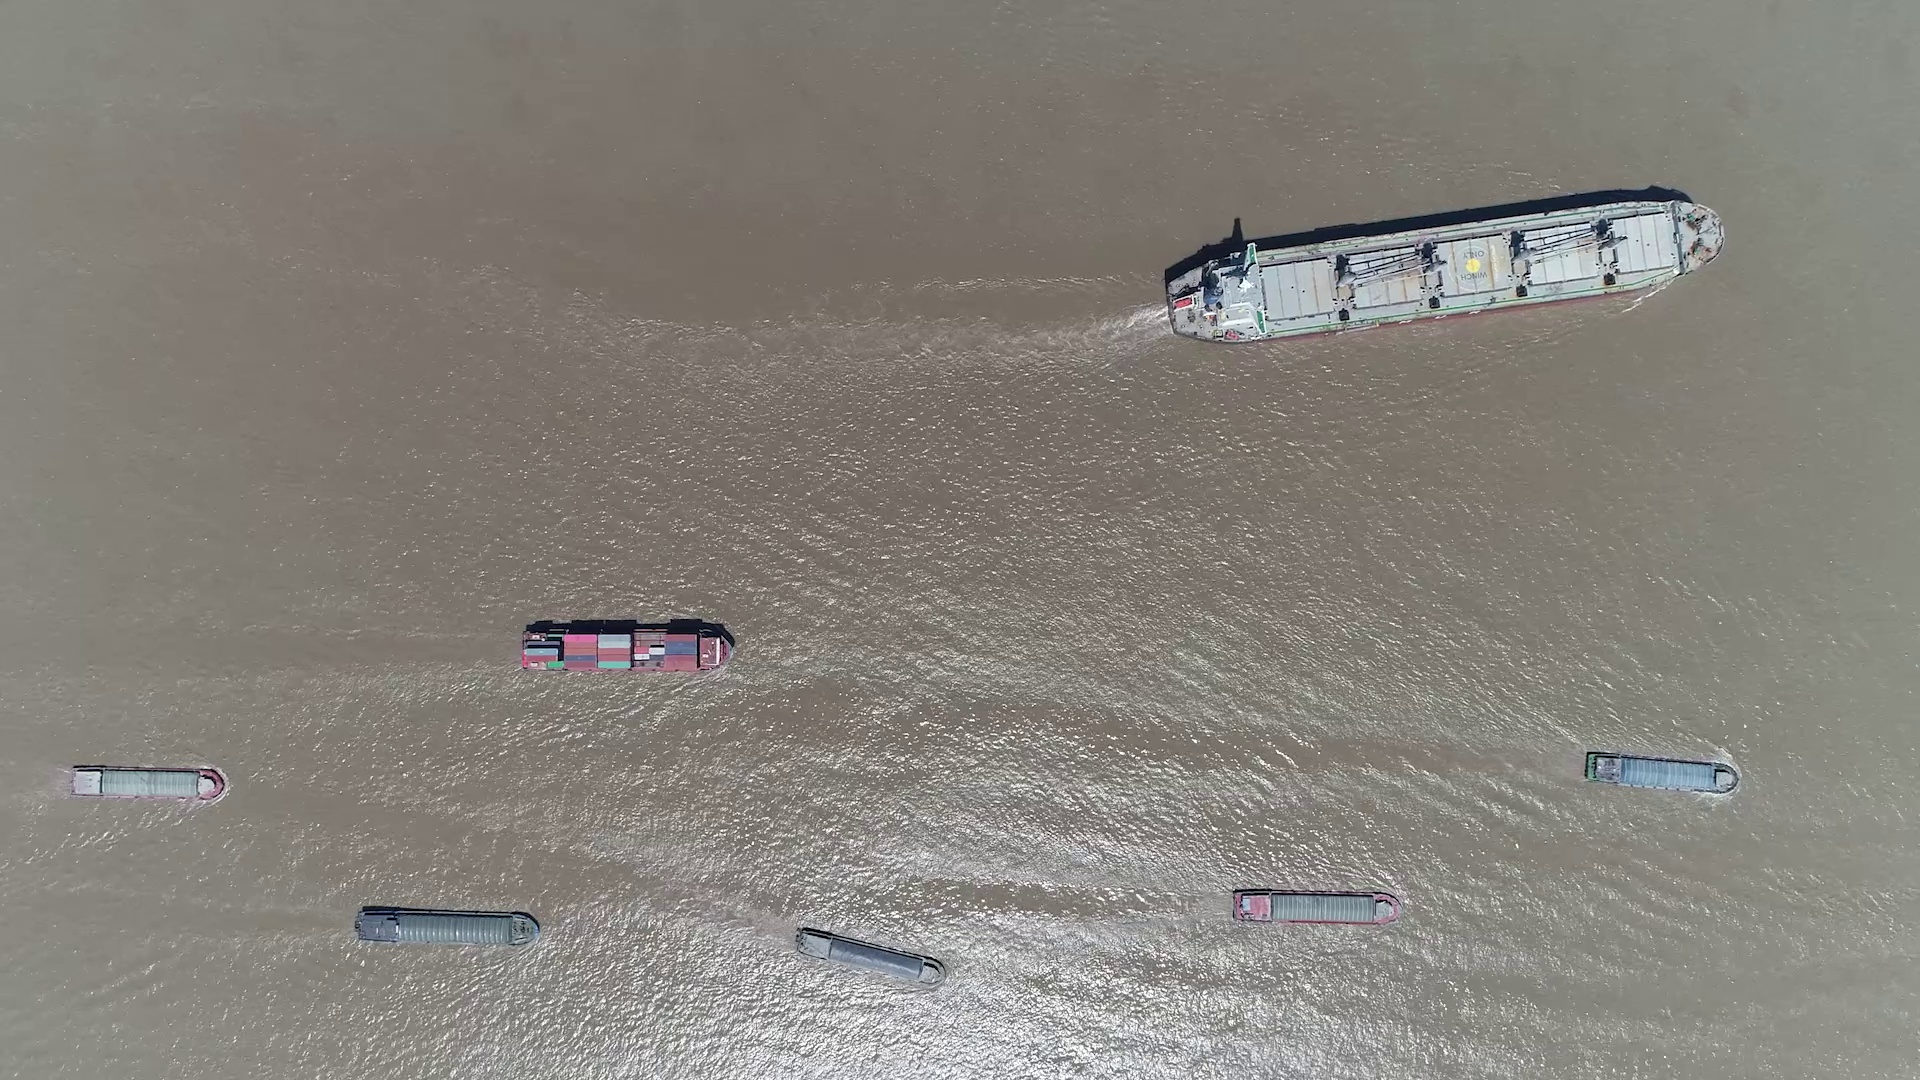ship: (1160, 198, 1724, 342), (520, 625, 735, 673), (793, 926, 942, 984), (355, 906, 539, 947), (1585, 753, 1738, 795), (1232, 889, 1402, 926), (67, 765, 225, 800)
